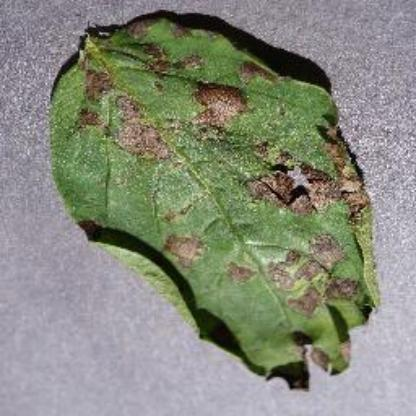Early-Blight: (46, 13, 390, 393)
